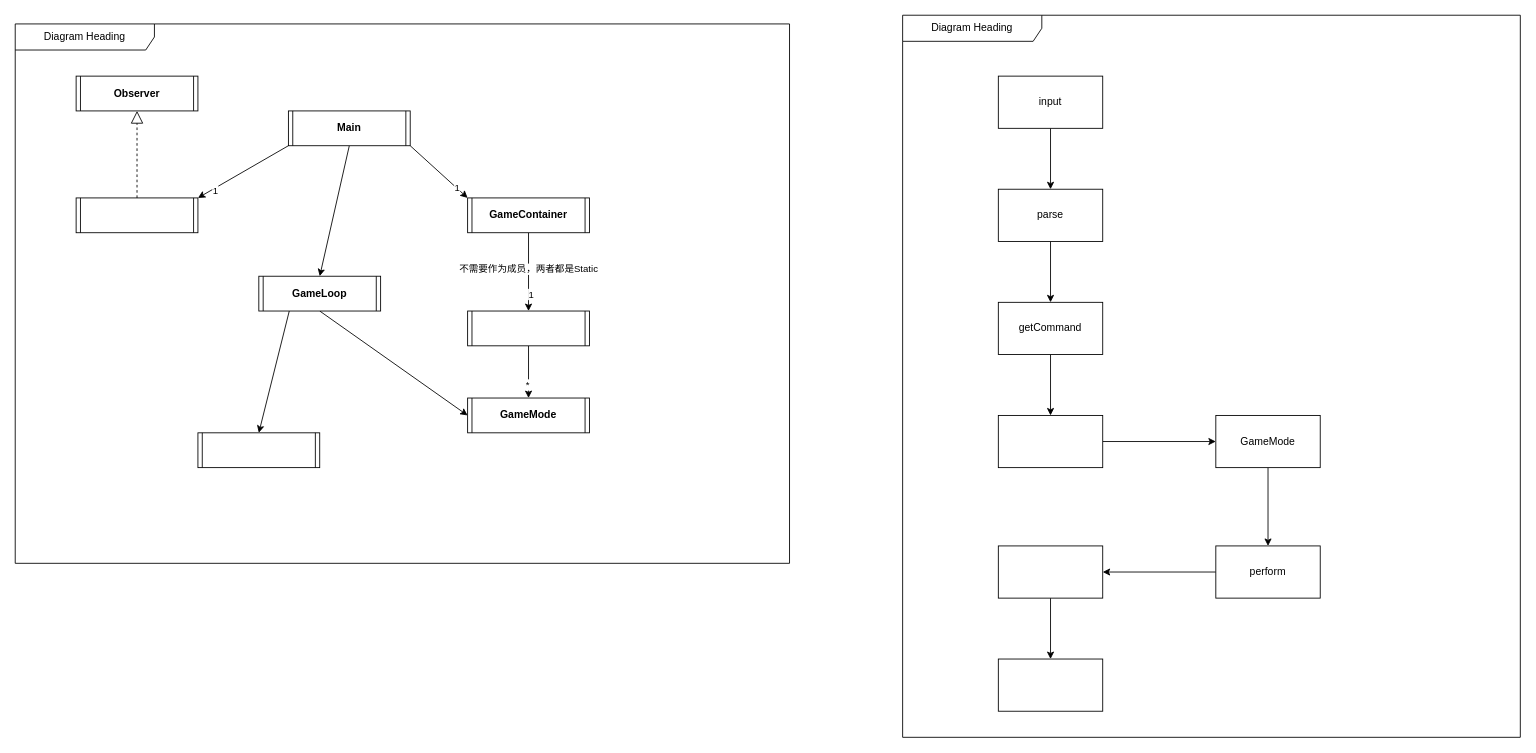
This 1536x753 diagram has some shape labels left out. Here are the shapes that lost their labels. From the top down, the centre of each, then its label:
At pixel 136 215: "ConsoleView".
At pixel 528 328: "GameList".
At pixel 258 450: "InputStream".
At pixel 1050 441: "execute".
At pixel 1050 571: "get result".
At pixel 1050 684: "handle result".
